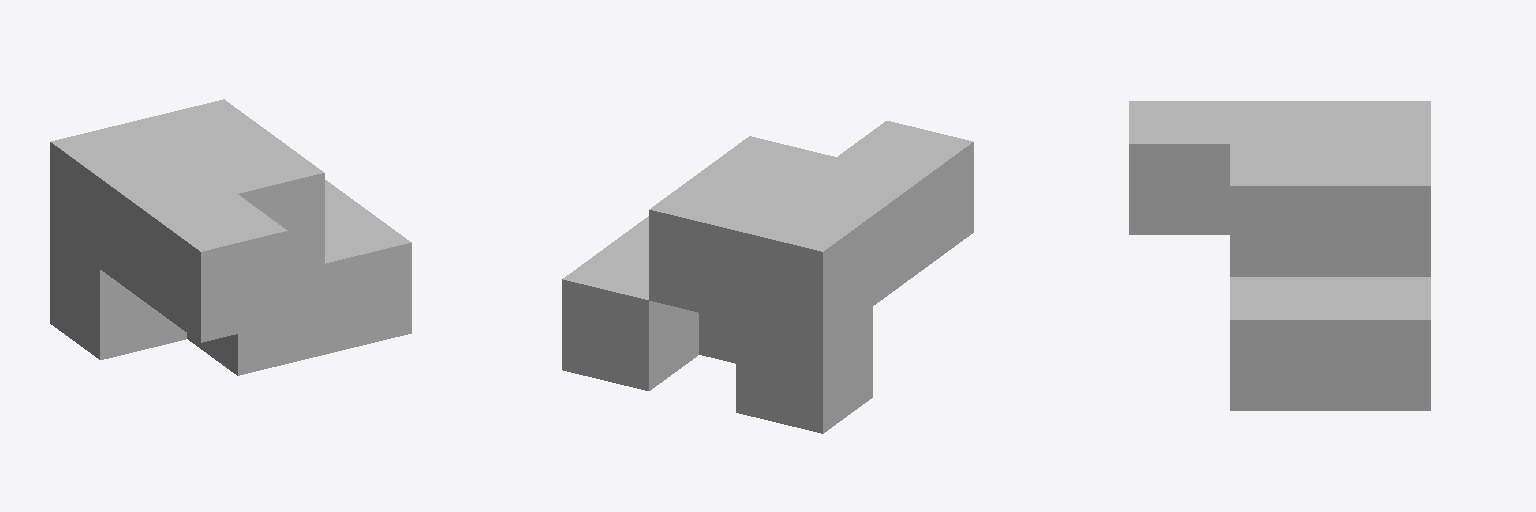
The model's file is buildingchunk2.obj.
3 views of the same model, side by side, from view 1: azimuth 30°, elevation 25°; view 2: azimuth 150°, elevation 25°; view 3: azimuth 270°, elevation 25° (orthographic).
Parts seen in each view (by area): view 1: object 1; view 2: object 1; view 3: object 1.
Boxes of the visible parts, <box> form: object 1: <box>50,99,411,375</box>; object 1: <box>562,121,973,433</box>; object 1: <box>1129,101,1430,410</box>.
Size of the model in its own units: 0.3 by 0.2 by 0.3.